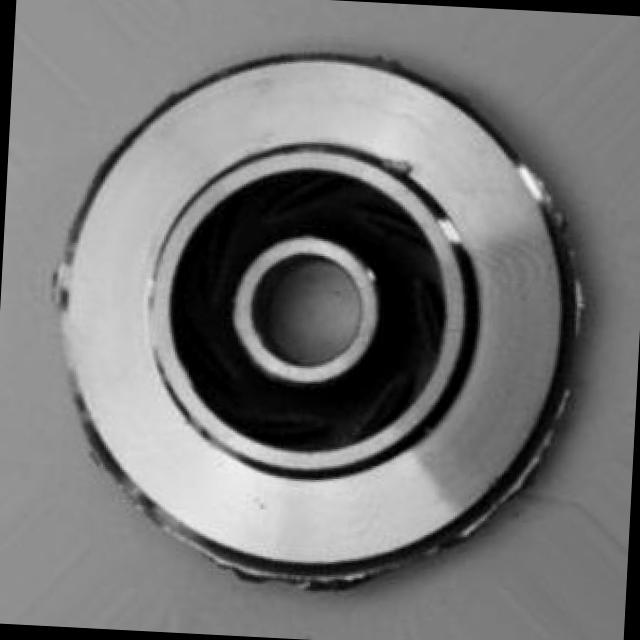Defect: (282, 556, 383, 610)
